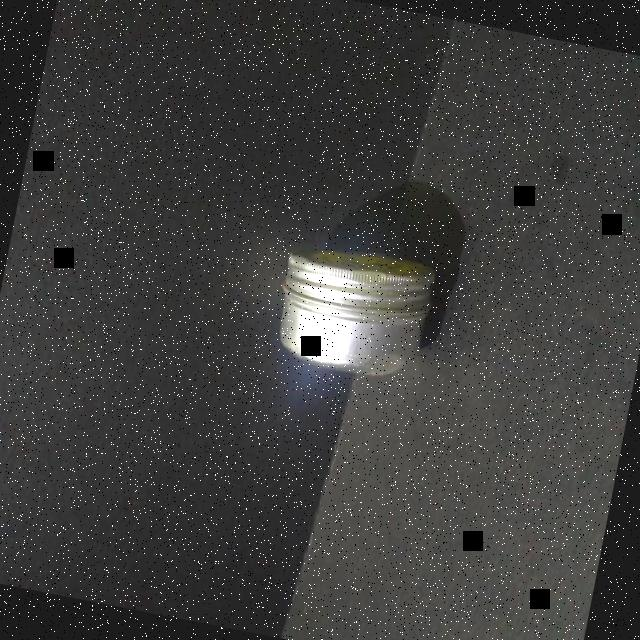can: (266, 230, 448, 388)
